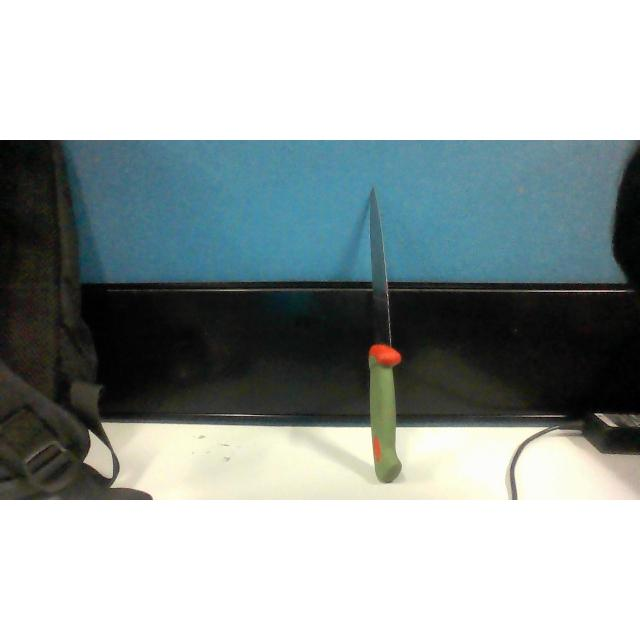Knife: (369, 188, 403, 484)
